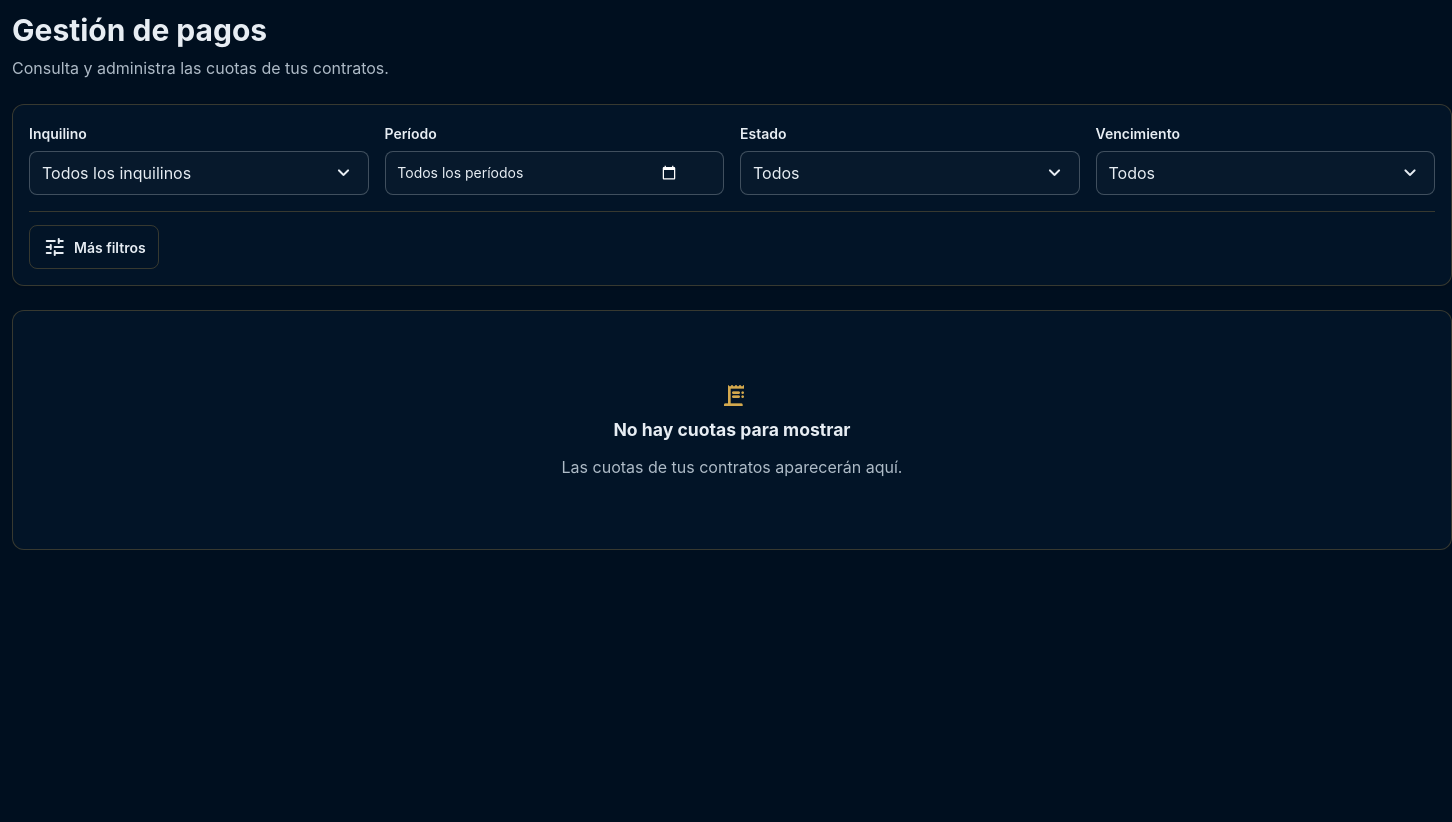
Test: PagosListComponent › sends the review filter and offers a way to clear it from the empty results state
Click the button "Más filtros" at (94, 247), box [29,225,159,269]
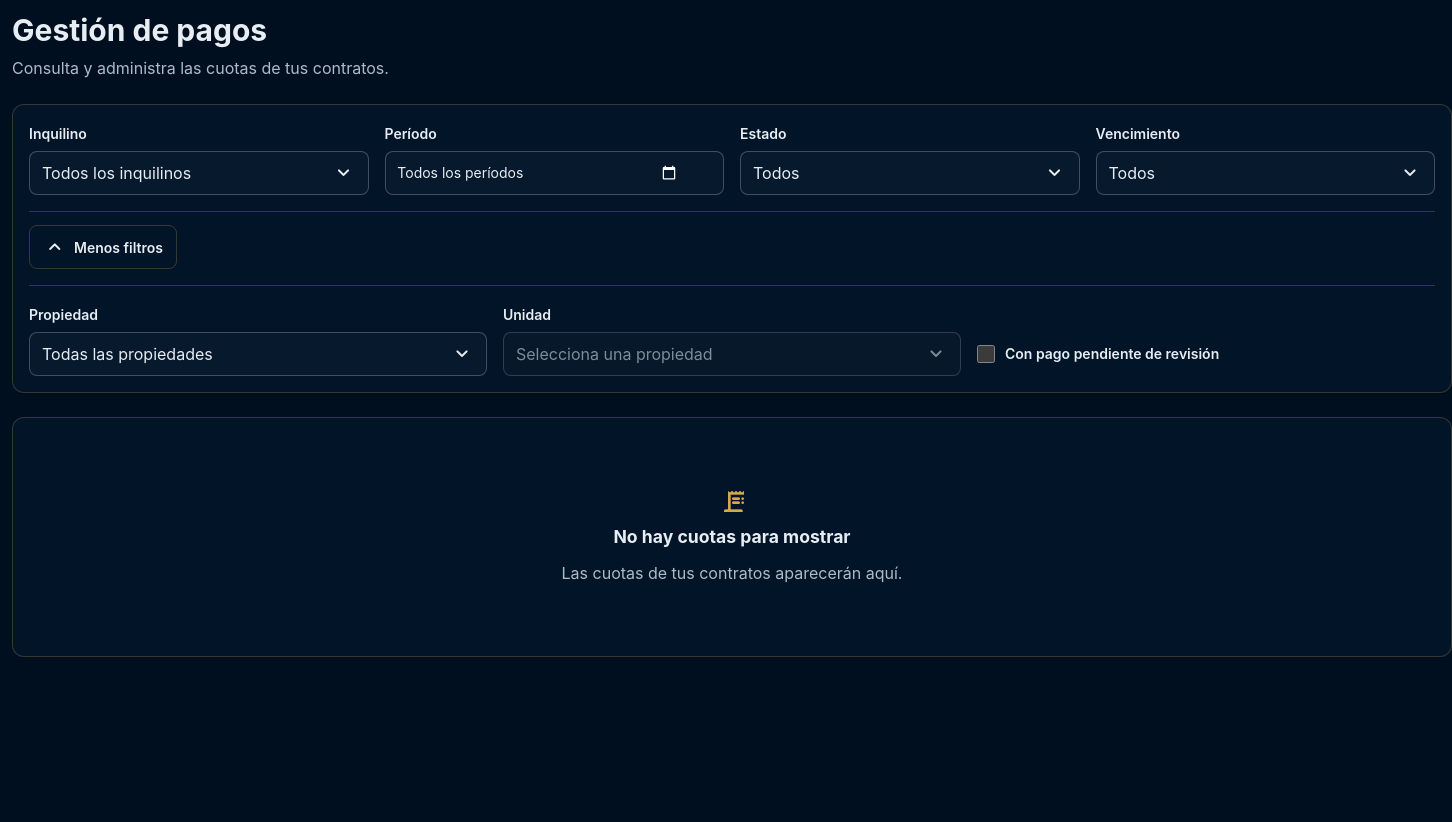
Click the checkbox labelled "Con pago pendiente de revisión" at (986, 354), box [977,345,995,363]
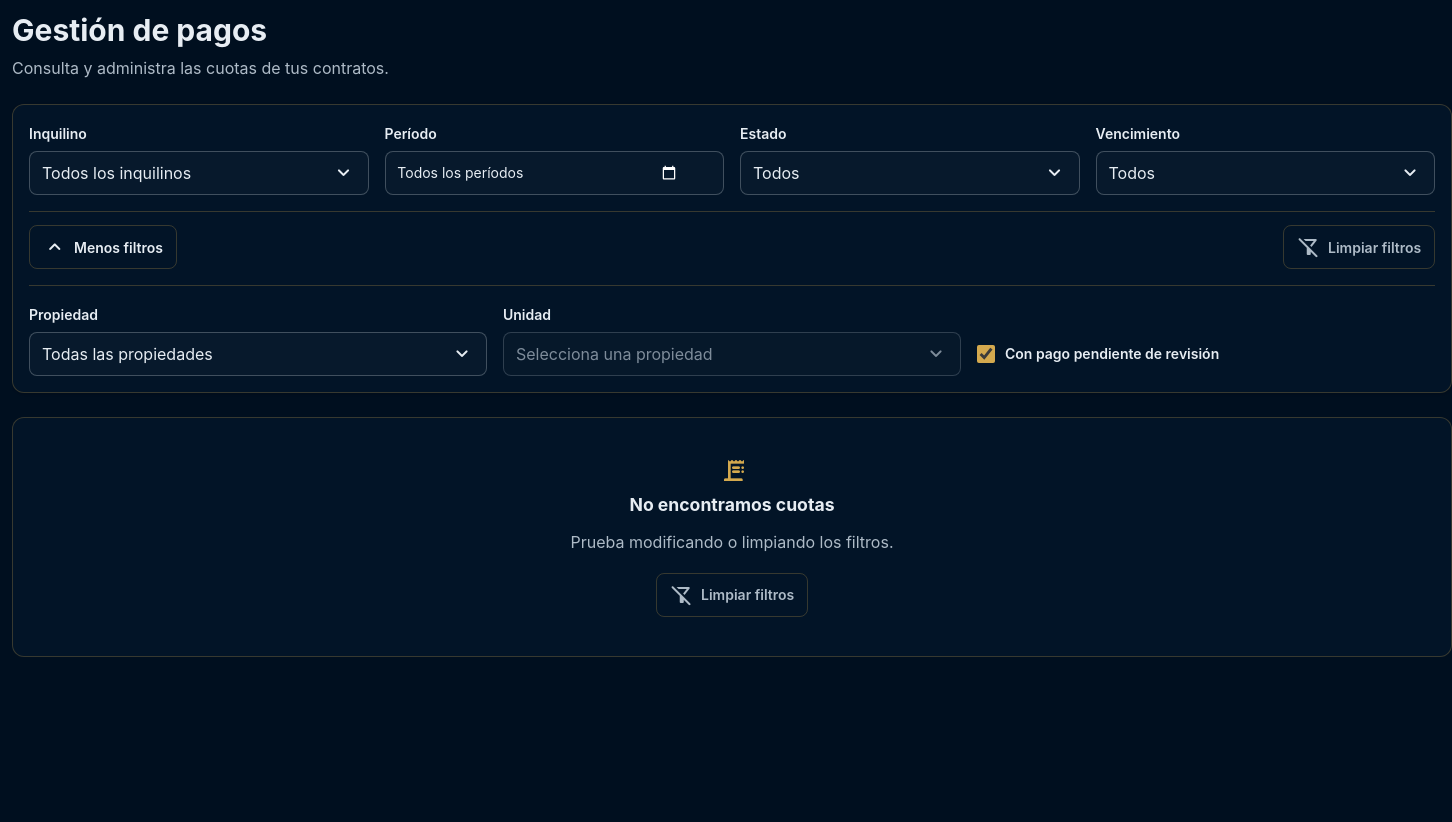
Expected: the text "No encontramos cuotas" is shown, [630,492,834,518]
Click the button with class "empty-clear" at (732, 595), box [656,573,808,617]
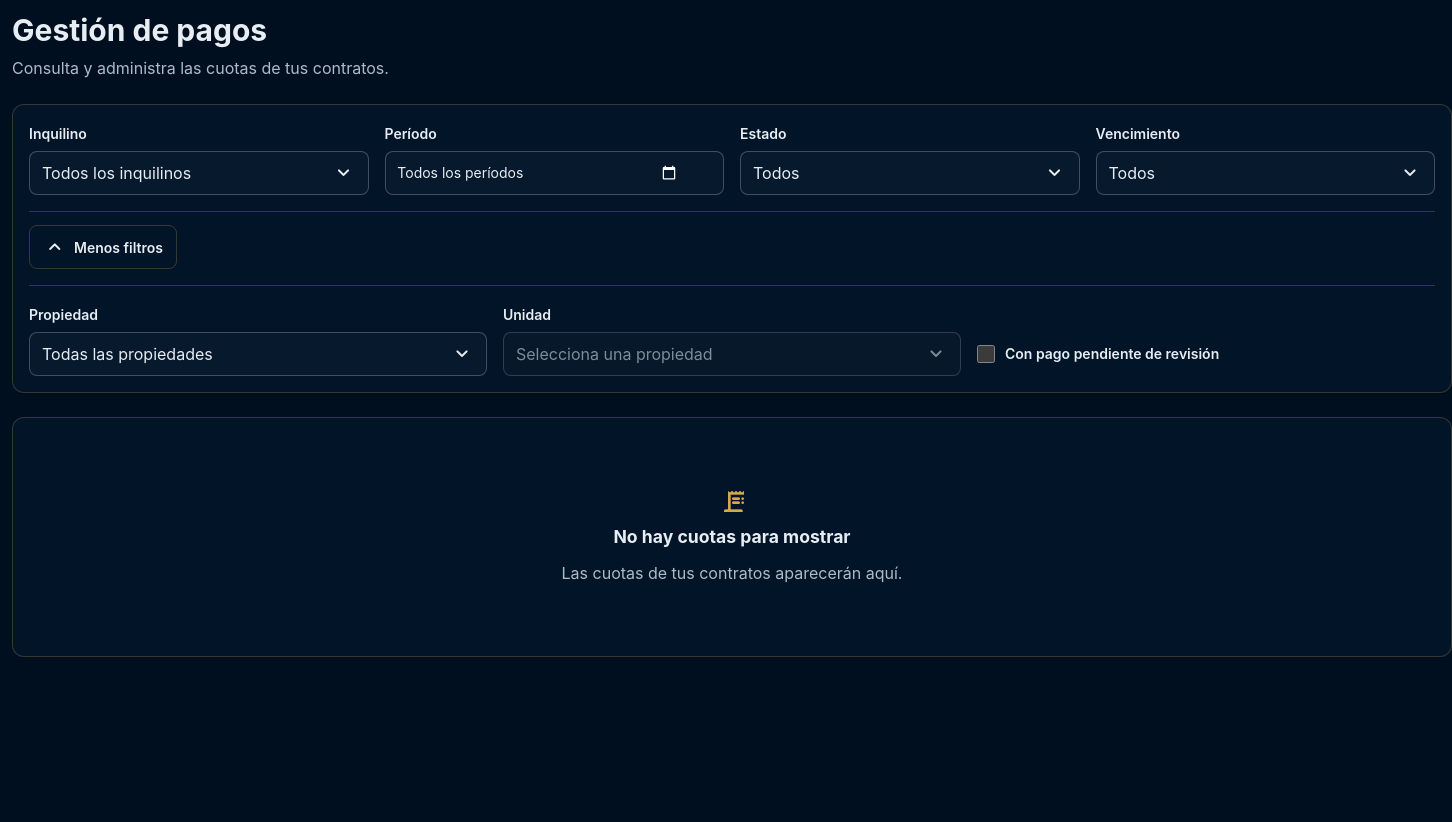
Expected: the text "No hay cuotas para mostrar" is shown, [614,524,851,550]
